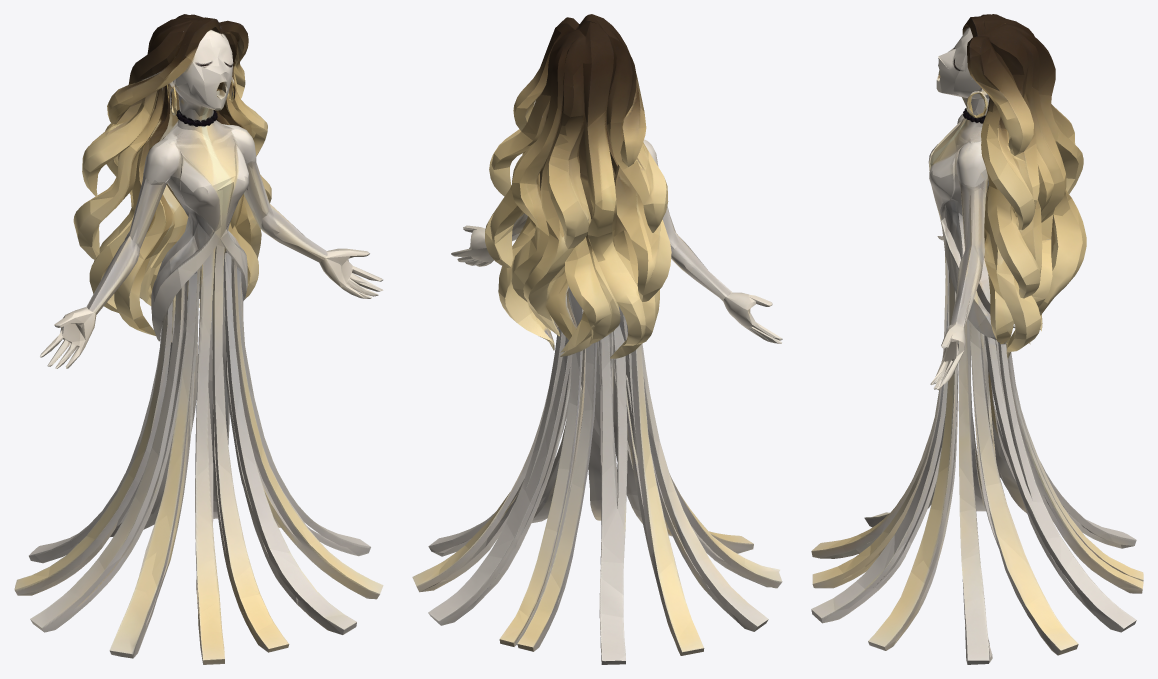
3 views of the same model, side by side, from view 1: azimuth 30°, elevation 25°; view 2: azimuth 150°, elevation 25°; view 3: azimuth 270°, elevation 25° (orthographic).
Size of the model in its own units: 1.18 by 1.9 by 1.
1 material, 1 textured.
